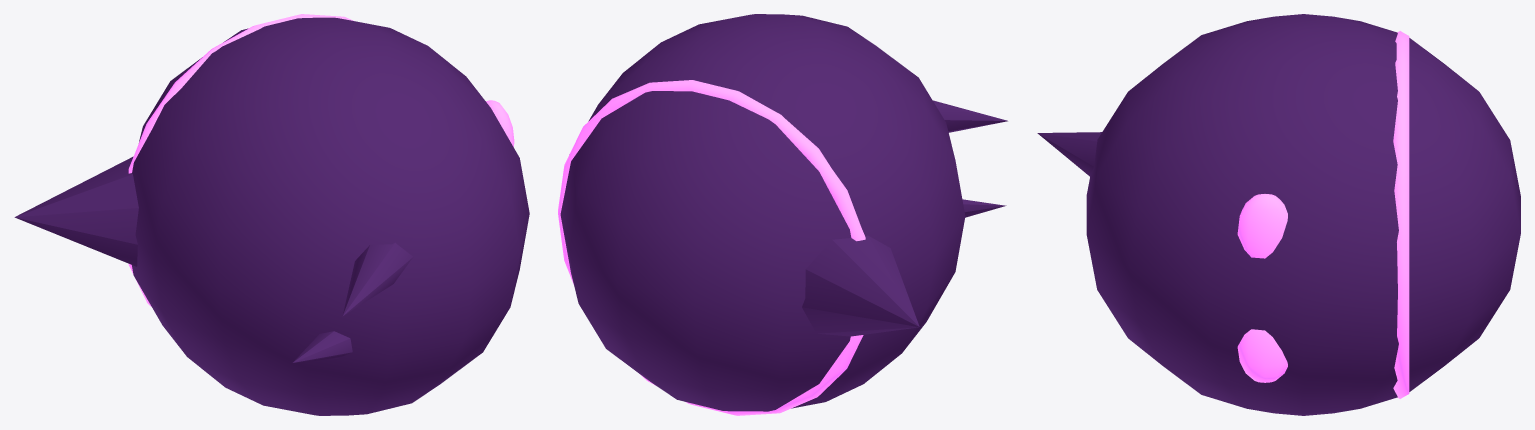
File: trauma-odrzucenie.glb
3 views of the same model, side by side, from view 1: azimuth 30°, elevation 25°; view 2: azimuth 150°, elevation 25°; view 3: azimuth 270°, elevation 25° (orthographic).
Parts seen in each view (by area): view 1: Shadow, Glow; view 2: Shadow, Glow; view 3: Shadow, Glow.
Part boxes in pixels (left/top/right/bottom): Shadow: left=14, top=17, right=529, bottom=415; Glow: left=128, top=14, right=514, bottom=306; Shadow: left=560, top=14, right=1007, bottom=411; Glow: left=558, top=80, right=865, bottom=415; Shadow: left=1037, top=14, right=1520, bottom=415; Glow: left=1237, top=31, right=1409, bottom=398.
Size of the model in its own units: 0.9919 by 0.84 by 1.
